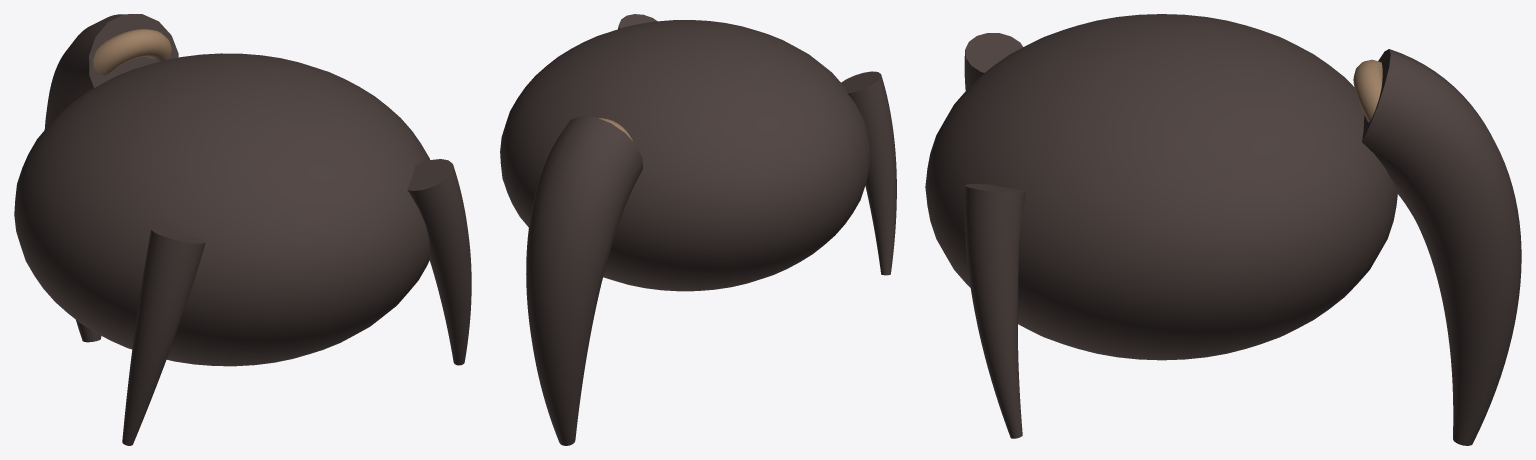
Rendered from sylas_hair.glb.
The picture shows the model from 3 angles, left to right: view 1: azimuth 30°, elevation 25°; view 2: azimuth 150°, elevation 25°; view 3: azimuth 270°, elevation 25°; orthographic projection. The views are drawn at different scales.
Parts seen in each view (by area): view 1: sylas_hair; view 2: sylas_hair; view 3: sylas_hair.
Part boxes in pixels (x1,y1,x2,y2): sylas_hair: (14,14,471,445); sylas_hair: (500,14,896,445); sylas_hair: (925,14,1521,445).
Bounding box in the file's own units: 0.456 × 0.4228 × 0.5745.
